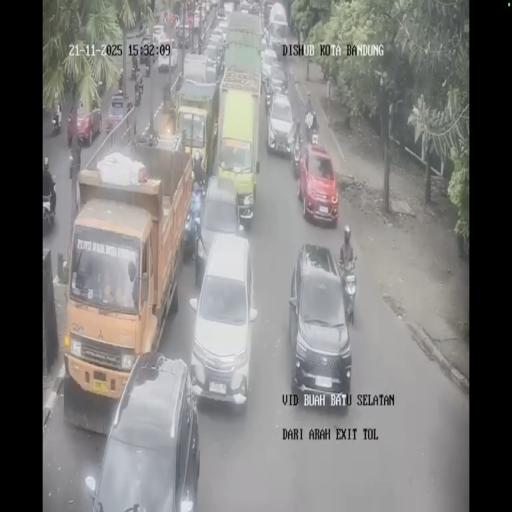3: (63, 141, 193, 411), (172, 69, 218, 178), (222, 8, 264, 80), (268, 2, 288, 50)
car: (288, 245, 352, 406), (195, 174, 243, 280), (298, 144, 338, 226), (266, 91, 296, 157), (67, 104, 101, 146), (106, 94, 132, 135), (267, 58, 289, 97), (202, 41, 222, 80), (158, 39, 178, 73), (215, 16, 229, 44), (186, 8, 202, 30), (151, 24, 165, 44), (217, 2, 227, 19), (239, 0, 251, 14)
truck: (340, 259, 358, 322), (42, 191, 54, 234), (305, 111, 319, 145), (68, 142, 80, 177), (292, 132, 301, 174), (51, 108, 61, 134), (134, 80, 143, 106), (182, 30, 191, 48), (130, 60, 138, 80), (151, 38, 157, 64), (191, 36, 199, 54), (118, 67, 124, 89), (145, 61, 151, 77)
